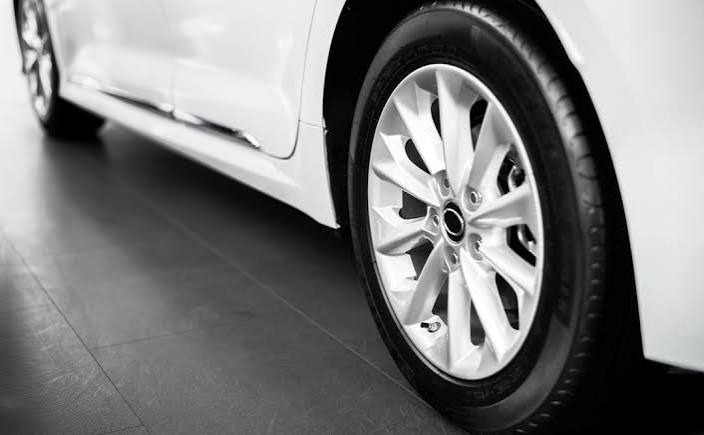car: (1, 1, 683, 423)
